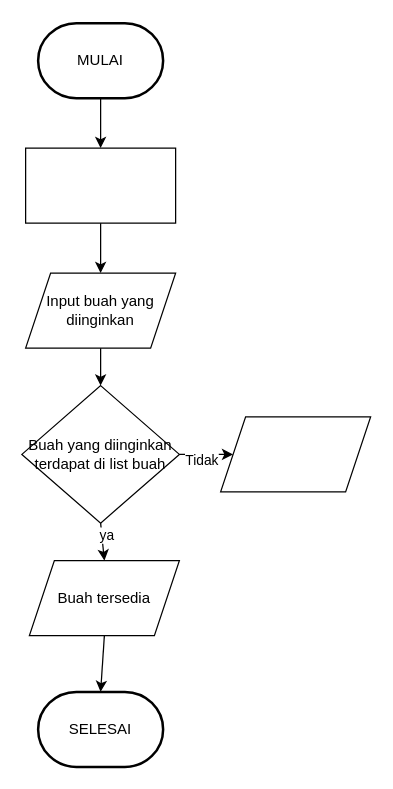
This 393x789 diagram has some shape labels left out. The box of each missing label's shape, as (x1, y1, x2, y2) in pixels:
Buah tidak tersedia: (219, 416, 371, 492)
List buah: (24, 147, 176, 223)
